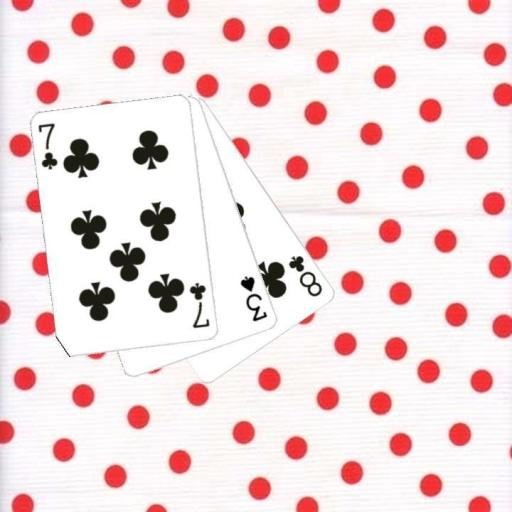card-corner: (285, 252, 324, 298), (237, 273, 269, 324), (186, 279, 212, 330), (35, 120, 60, 172)
